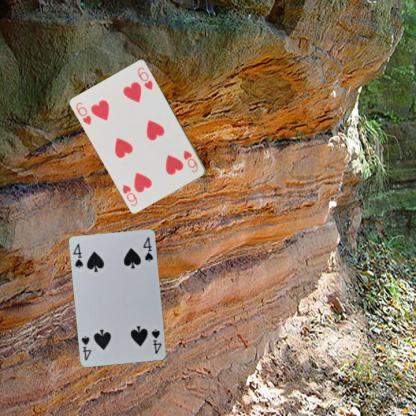4s: (70, 241, 84, 270), (149, 327, 163, 355)
6h: (73, 99, 93, 126), (181, 148, 199, 173)
